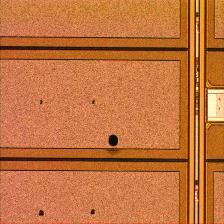PARTICLE: (104, 132, 124, 152)
